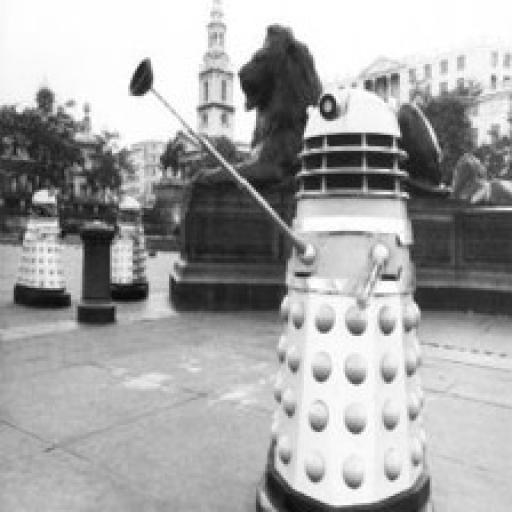dalek: (123, 36, 447, 512), (18, 178, 74, 312), (100, 195, 152, 300)
